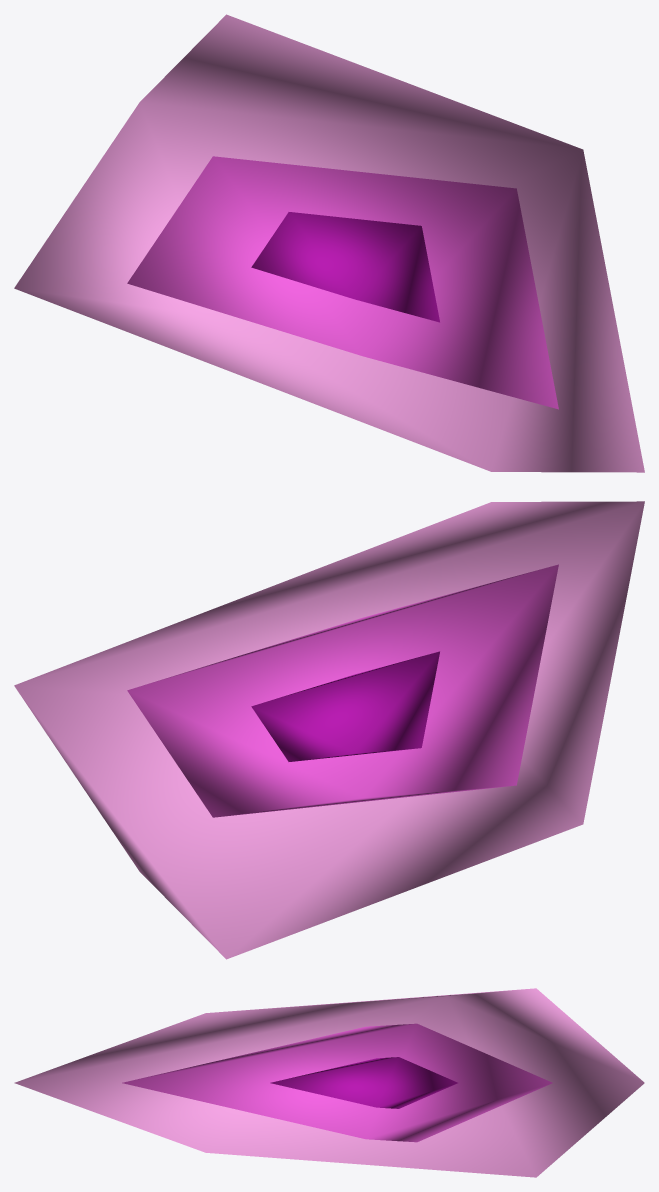
The picture shows the model from 3 angles, top to bottom: view 1: azimuth 30°, elevation 25°; view 2: azimuth 150°, elevation 25°; view 3: azimuth 270°, elevation 25°; orthographic projection. The views are drawn at different scales.
Visible parts, largest first — view 1: laser_pink_04; view 2: laser_pink_04; view 3: laser_pink_04.
Boxes of the visible parts, <box> form: laser_pink_04: <box>14,14,644,472</box>; laser_pink_04: <box>14,501,644,959</box>; laser_pink_04: <box>14,988,644,1177</box>.
Size of the model in its own units: 1.5 by 0.7644 by 2.31.
1 material, 1 textured.
